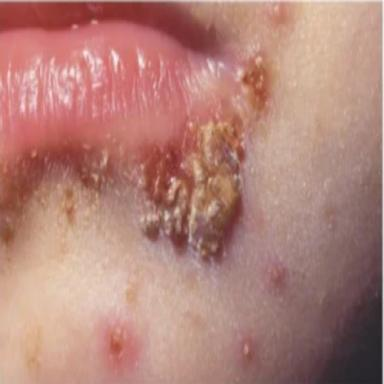Impetigo: (137, 96, 245, 259), (241, 52, 271, 114), (79, 145, 119, 191)
